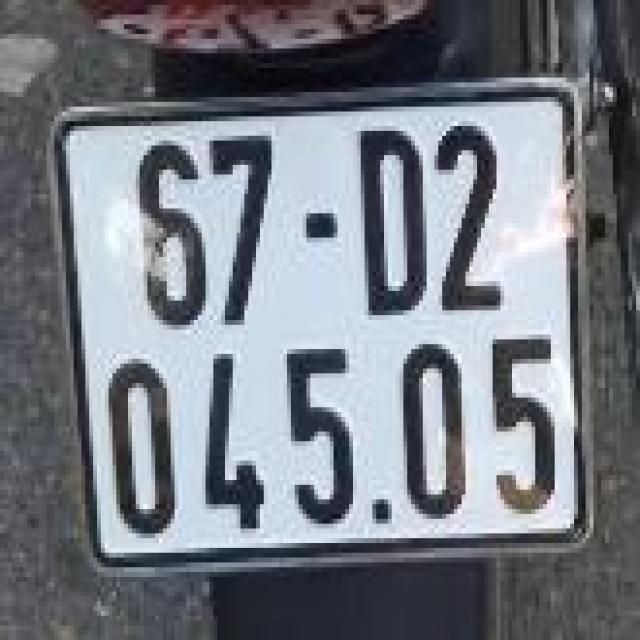0: (93, 344, 190, 543), (388, 342, 473, 531)
2: (432, 109, 514, 313)
4: (187, 344, 276, 553)
5: (483, 312, 568, 536), (277, 322, 363, 536)
6: (130, 121, 211, 335)
7: (208, 119, 285, 332)
D: (330, 124, 434, 342)
